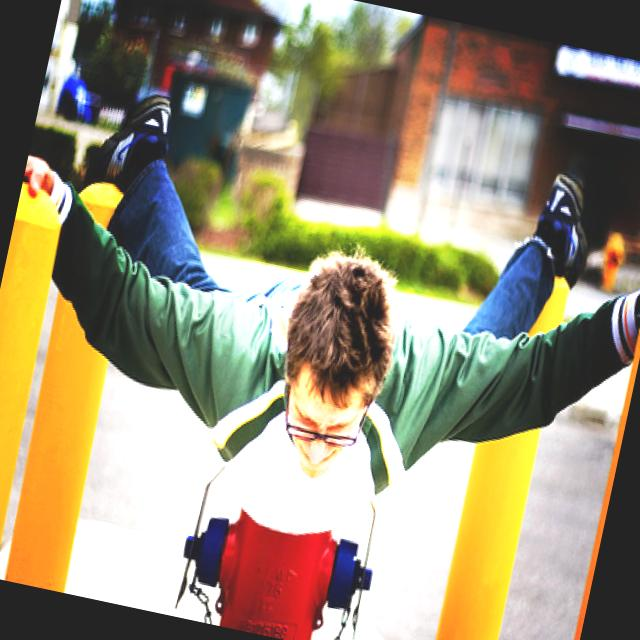Vehicle: (57, 69, 107, 123)
